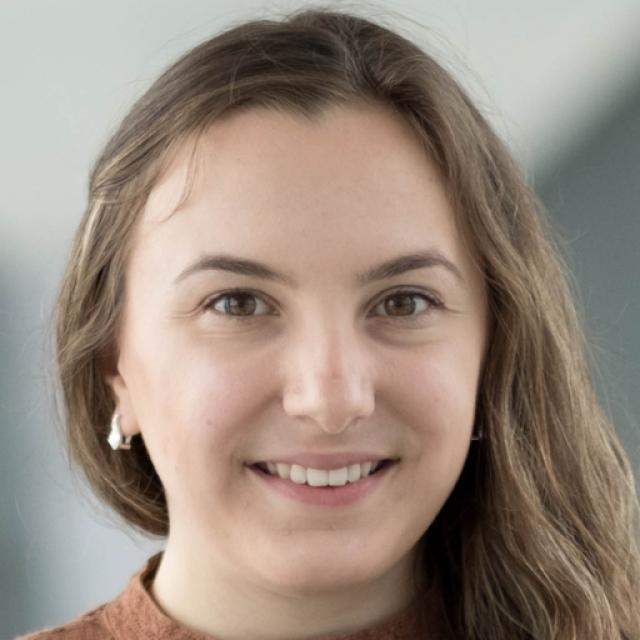happy: (128, 103, 488, 592)
